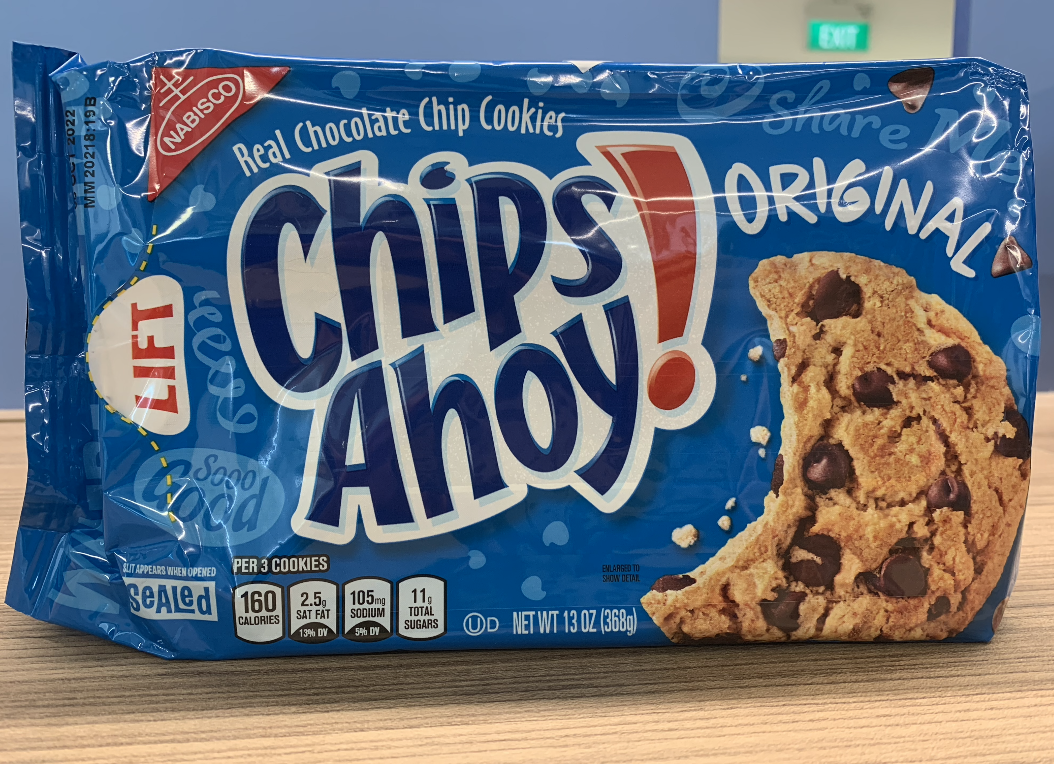cookies_300g-399g: (68, 83, 995, 631)
